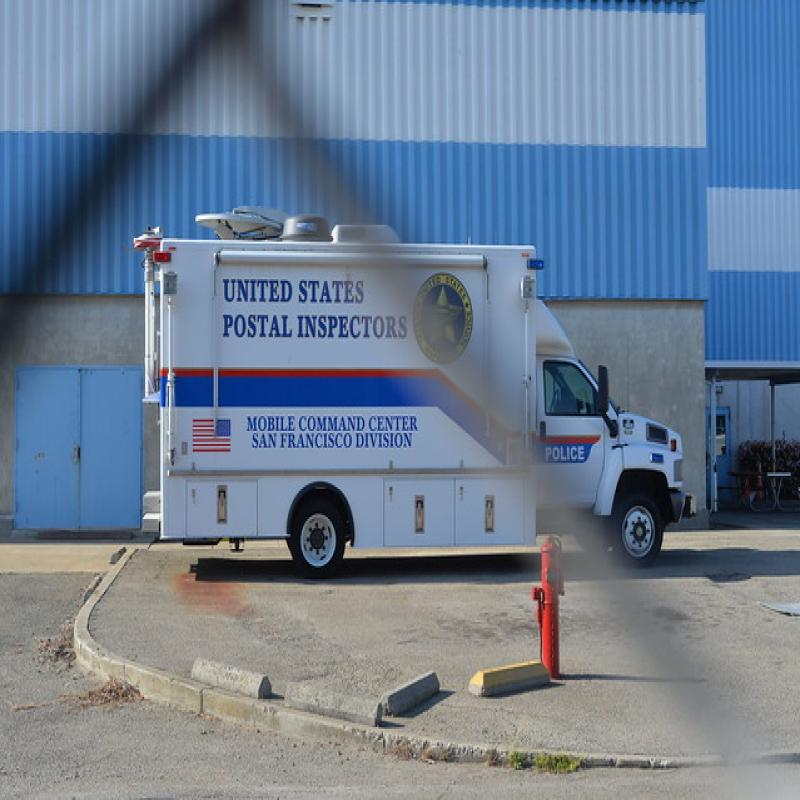ambulance: (124, 158, 704, 612)
